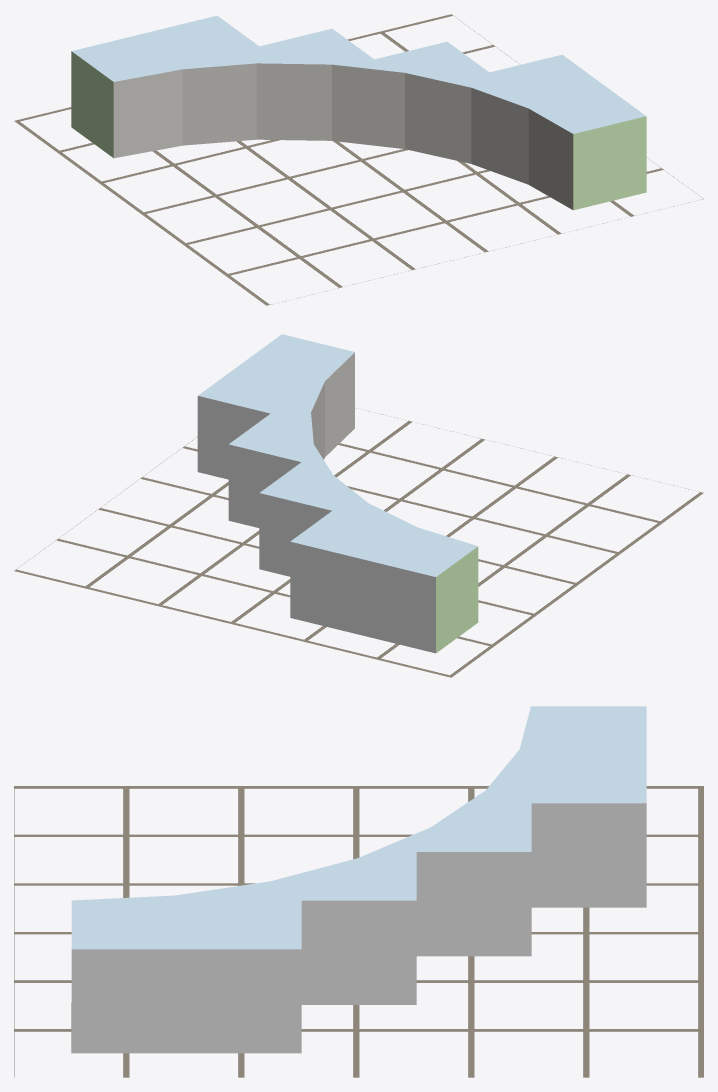
Rendered from Wall_Curve_Inner_5x5_Mid.glb.
3 views of the same model, one above another, from view 1: azimuth 30°, elevation 25°; view 2: azimuth 150°, elevation 25°; view 3: azimuth 270°, elevation 25° (orthographic). The views are drawn at different scales.
Parts seen in each view (by area): view 1: Wall_Curve_Inner_5x5_Mid, Floor; view 2: Wall_Curve_Inner_5x5_Mid, Floor; view 3: Wall_Curve_Inner_5x5_Mid, Floor.
Part boxes in pixels (x1,y1,x2,y2): Wall_Curve_Inner_5x5_Mid: [71, 15, 646, 210]; Floor: [14, 14, 703, 305]; Wall_Curve_Inner_5x5_Mid: [197, 334, 478, 653]; Floor: [14, 408, 703, 677]; Wall_Curve_Inner_5x5_Mid: [71, 706, 646, 1053]; Floor: [14, 786, 703, 1077].
Bounding box in the file's own units: 600 × 100 × 600.
Materials: 5 (1 with a texture image).
